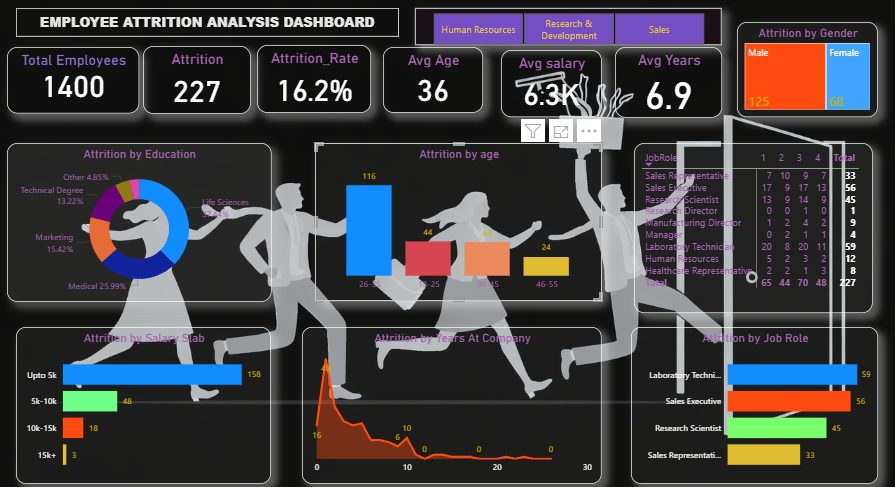

The page's visual inventory and layout, read from the dashboard file:
{"tool":"powerbi","page":{"name":"Page 1","canvas":[1280,720],"ordinal":0},"visuals":[{"type":"card","title":"Total Employees","fields":{"Values":["CountNonNull(HR DATA.EmployeeNumber)"]},"box":[11.5,70.6,188.6,95],"z":0},{"type":"card","title":"Attrition","fields":{"Values":["Sum(HR DATA.AttritionCount)"]},"box":[205.8,68.6,153.7,97.4],"z":1000},{"type":"card","title":"Attrition_Rate","fields":{"Values":["HR DATA.AttritionRate"]},"box":[369.1,67.2,163.3,97.4],"z":2000},{"type":"card","title":"Avg Age","fields":{"Values":["Avg(HR DATA.Age)"]},"box":[548.6,70.6,142.6,93.6],"z":3000},{"type":"card","title":"Avg salary","fields":{"Values":["Avg(HR DATA.MonthlyIncome)"]},"box":[717.1,74.9,144,96.5],"z":4000},{"type":"card","title":"Avg Years","fields":{"Values":["Avg(HR DATA.YearsAtCompany)"]},"box":[879.5,70,153.2,101.3],"z":5000},{"type":"columnChart","title":" Attrition by age","fields":{"Category":["HR DATA.AgeGroup"],"Y":["Sum(HR DATA.AttritionCount)"]},"box":[451.2,207.5,410.2,225.6],"z":6000},{"type":"barChart","title":" Attrition by Salary Slab","fields":{"Category":["HR DATA.SalarySlab"],"Y":["Sum(HR DATA.AttritionCount)"]},"box":[24.1,470.5,364.3,224.4],"z":7000},{"type":"areaChart","title":" Attrition by Years At Company","fields":{"Y":["Sum(HR DATA.AttritionCount)"],"Category":["HR DATA.YearsAtCompany"]},"box":[433.1,470.5,428.3,224.4],"z":8000},{"type":"barChart","title":" Attrition by Job Role","fields":{"Category":["HR DATA.JobRole"],"Y":["Sum(HR DATA.AttritionCount)"]},"box":[902.4,470.5,353.5,224.4],"z":9000},{"type":"treemap","title":" Attrition by Gender","fields":{"Group":["HR DATA.Gender"],"Values":["Sum(HR DATA.AttritionCount)"]},"box":[1054.4,35,201.5,136.3],"z":10000},{"type":"slicer","fields":{"Values":["HR DATA.Department"]},"box":[594.7,14.4,437.8,53.3],"z":11000},{"type":"pivotTable","fields":{"Rows":["HR DATA.JobRole"],"Columns":["HR DATA.JobSatisfaction"],"Values":["Sum(HR DATA.AttritionCount)"]},"box":[907.1,207.1,341.4,242.9],"z":12000},{"type":"donutChart","title":" Attrition by Education","fields":{"Category":["HR DATA.EducationField"],"Y":["Sum(HR DATA.AttritionCount)"]},"box":[10.9,207.5,377.6,226.8],"z":13000},{"type":"textbox","box":[24.1,14.5,546.5,41],"z":14000}]}

Visuals, with their boxes in screenshot pixels (x1, y1, x2, y2):
"Total Employees" card: <bbox>10, 47, 141, 112</bbox>
"Attrition" card: <bbox>145, 45, 251, 112</bbox>
"Attrition_Rate" card: <bbox>258, 44, 371, 112</bbox>
"Avg Age" card: <bbox>382, 47, 480, 111</bbox>
"Avg salary" card: <bbox>498, 49, 598, 116</bbox>
"Avg Years" card: <bbox>611, 46, 717, 116</bbox>
" Attrition by age" columnChart: <bbox>314, 141, 598, 297</bbox>
" Attrition by Salary Slab" barChart: <bbox>19, 323, 271, 478</bbox>
" Attrition by Years At Company" areaChart: <bbox>302, 323, 598, 478</bbox>
" Attrition by Job Role" barChart: <bbox>627, 323, 871, 478</bbox>
" Attrition by Gender" treemap: <bbox>732, 22, 871, 116</bbox>
slicer - HR DATA.Department: <bbox>414, 8, 717, 45</bbox>
pivotTable - HR DATA.JobRole x HR DATA.JobSatisfaction: <bbox>630, 141, 866, 309</bbox>
" Attrition by Education" donutChart: <bbox>10, 141, 271, 298</bbox>
textbox: <bbox>19, 8, 397, 36</bbox>
